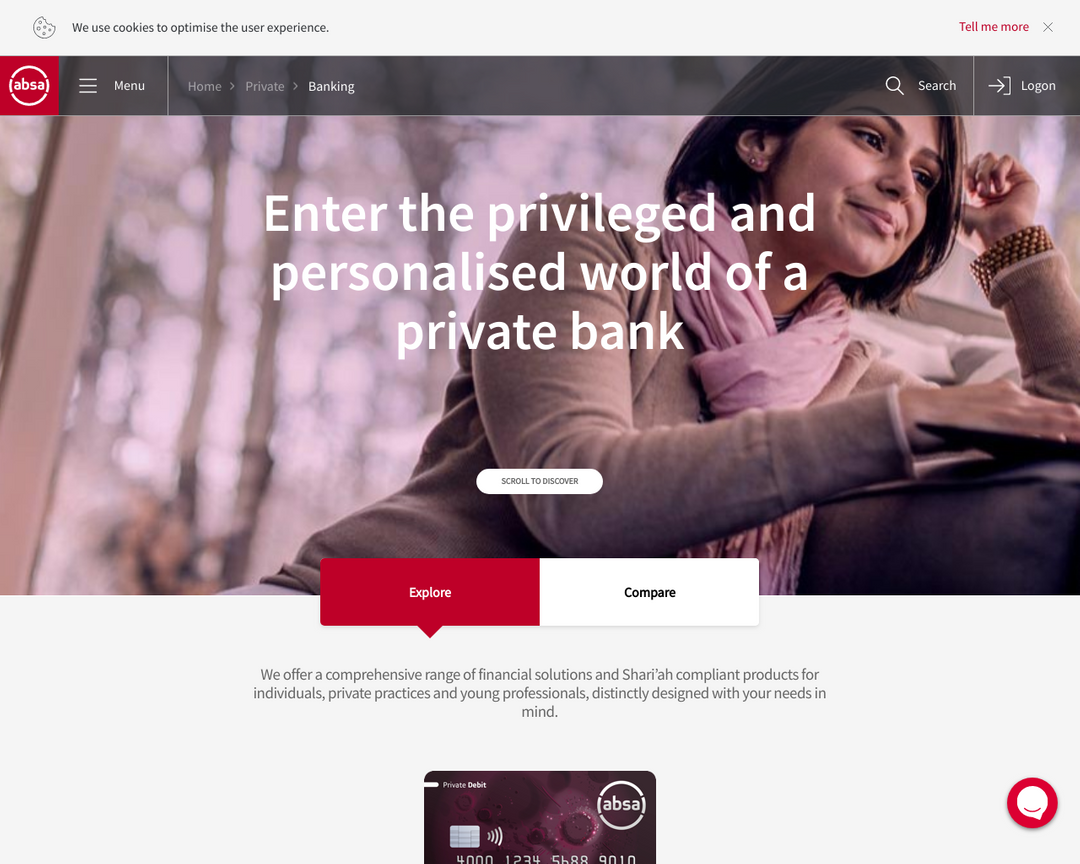ABSA: (9, 66, 52, 106)
